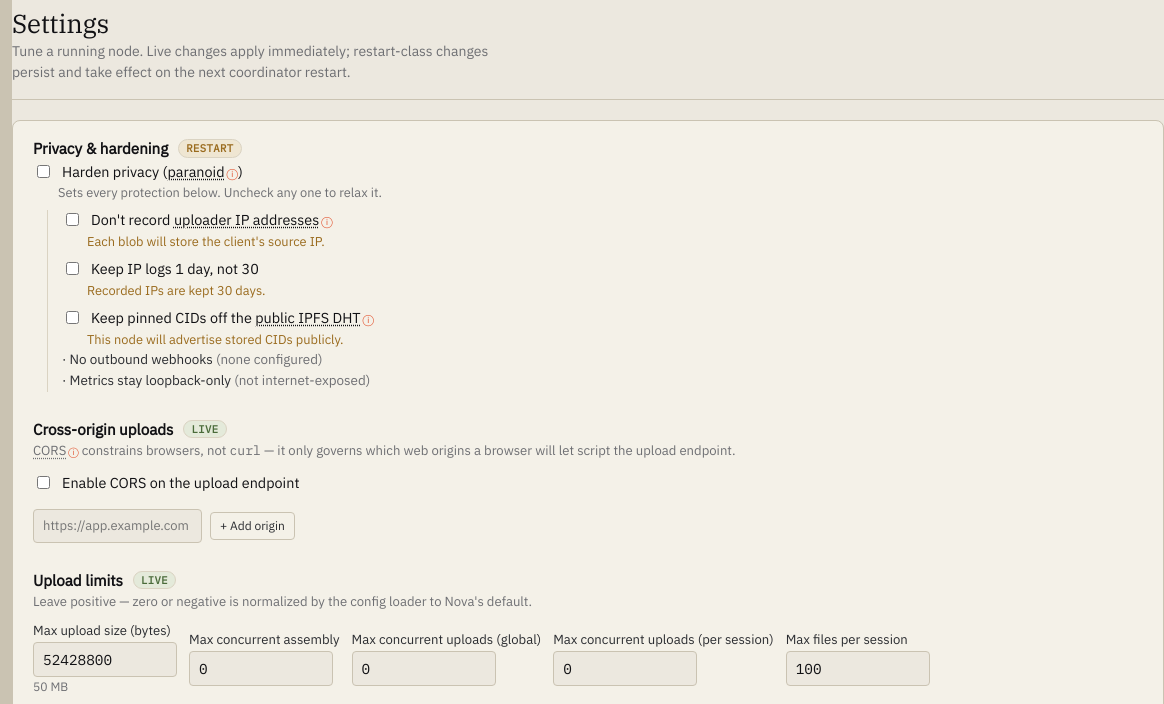
it: SettingsScreen › saves a changed live field with If-Match and shows the restart banner
Replace the text in the number field labelled "Max files per session" with "50" at point(858, 668), box [786,651,930,686]
(page scrolled)
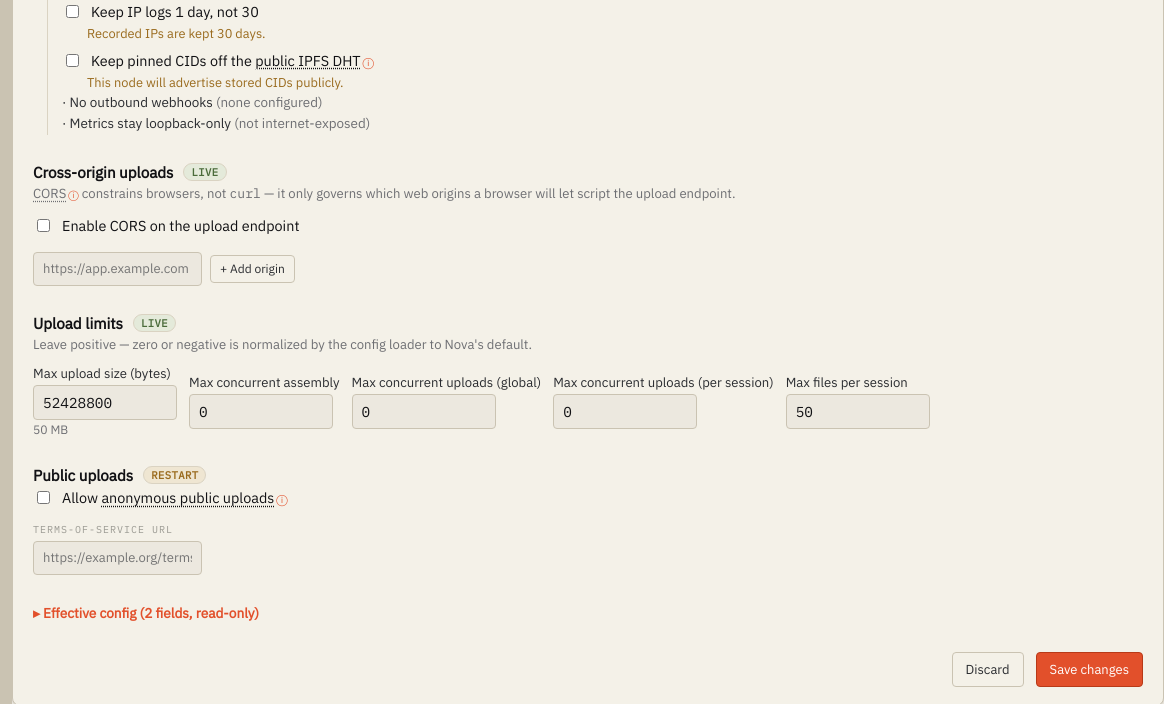
Click the button "Save changes" at point(1089, 670), box [1036,652,1143,688]
(page scrolled)
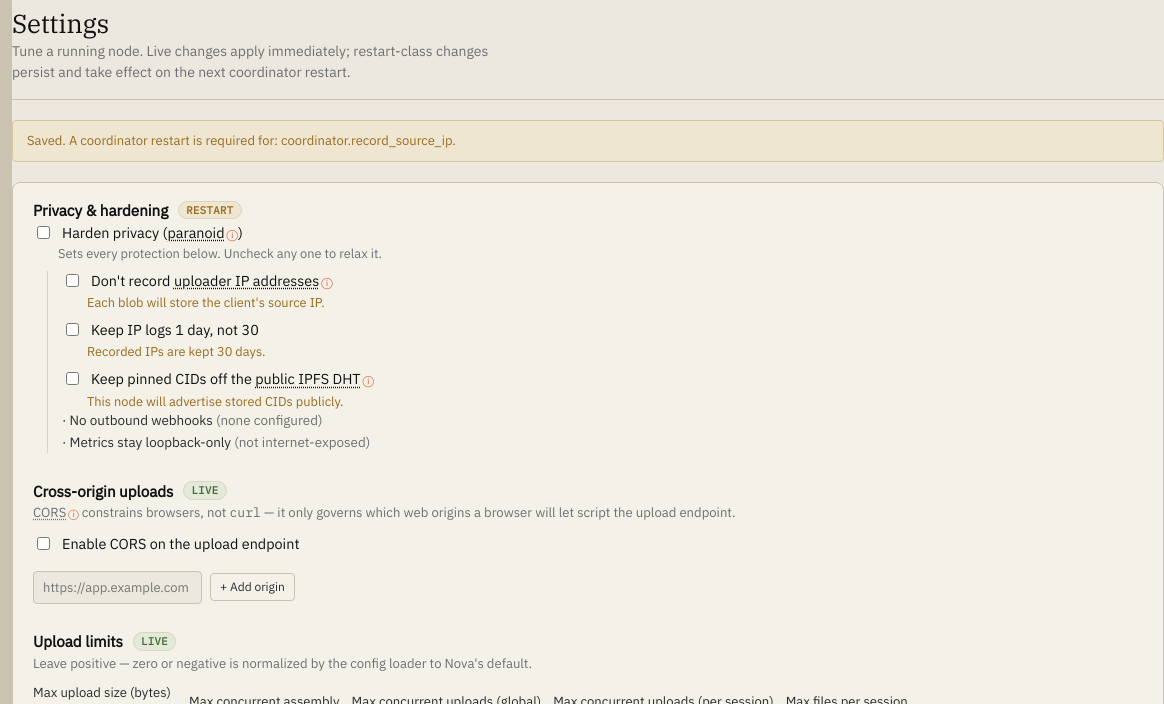
Check: the text "restart is required for" is shown, box [27,132,281,149]
